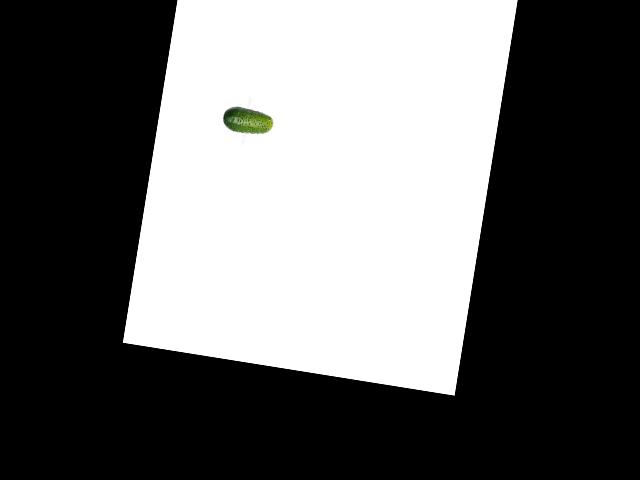cucumber: (220, 104, 275, 138)
